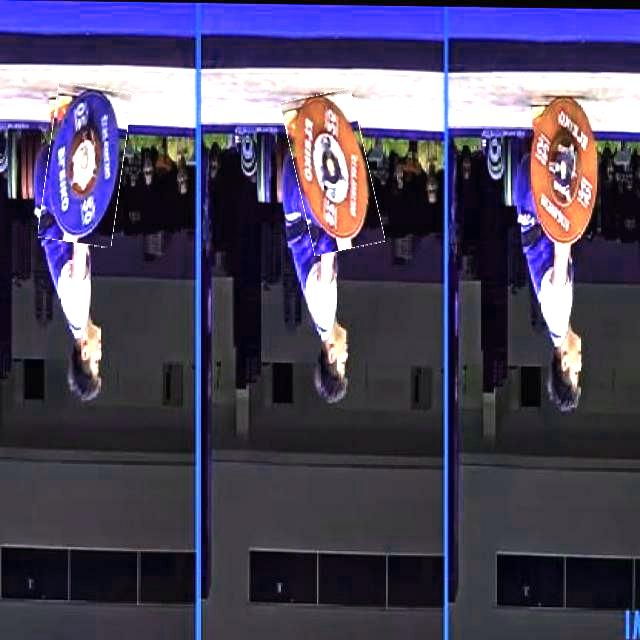barbell: (290, 90, 377, 252), (45, 85, 128, 247)
